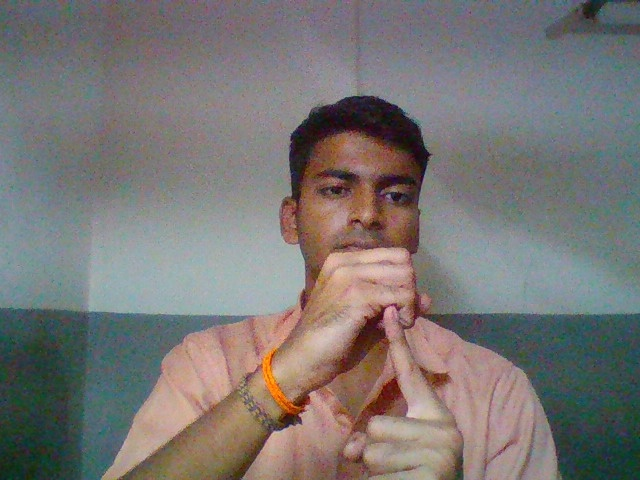Q: (271, 235, 497, 480)
